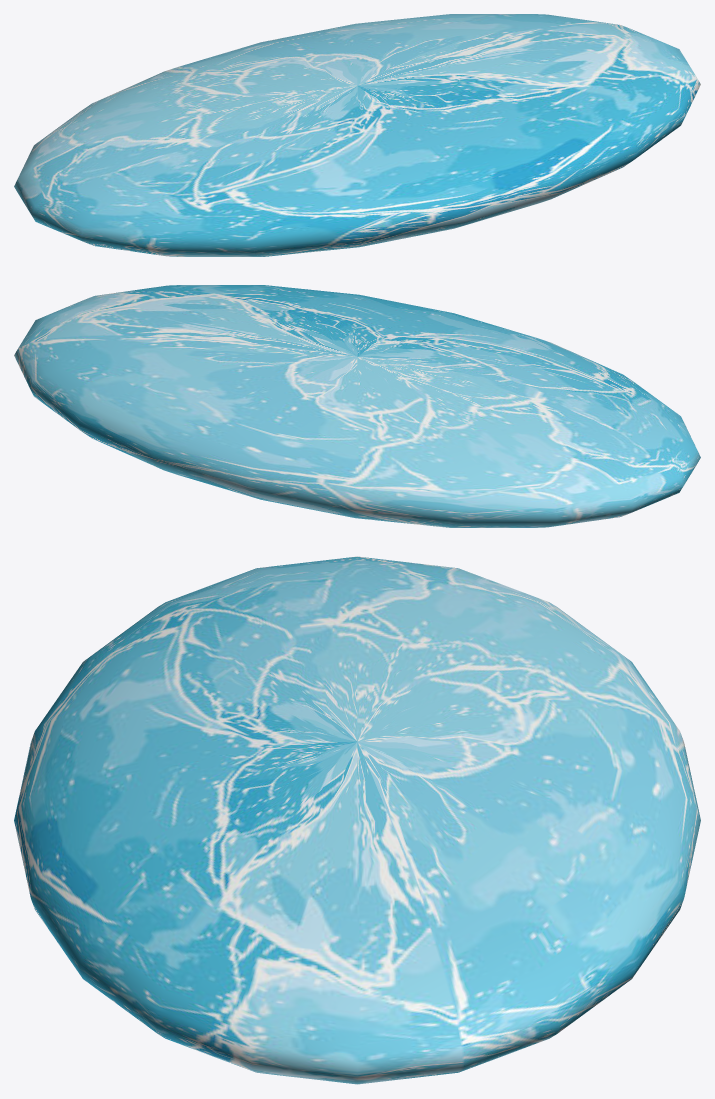
File: ice_block.glb
The picture shows the model from 3 angles, top to bottom: view 1: azimuth 30°, elevation 25°; view 2: azimuth 150°, elevation 25°; view 3: azimuth 270°, elevation 25°; orthographic projection. The views are drawn at different scales.
Parts seen in each view (by area): view 1: Platform; view 2: Platform; view 3: Platform.
Boxes of the visible parts, x1,y1,x2,y2 form: Platform: (14, 14, 700, 256); Platform: (14, 285, 700, 527); Platform: (14, 556, 700, 1084).
Size of the model in its own units: 13.53 by 1.97 by 7.8.
Materials: 1 (1 with a texture image).
